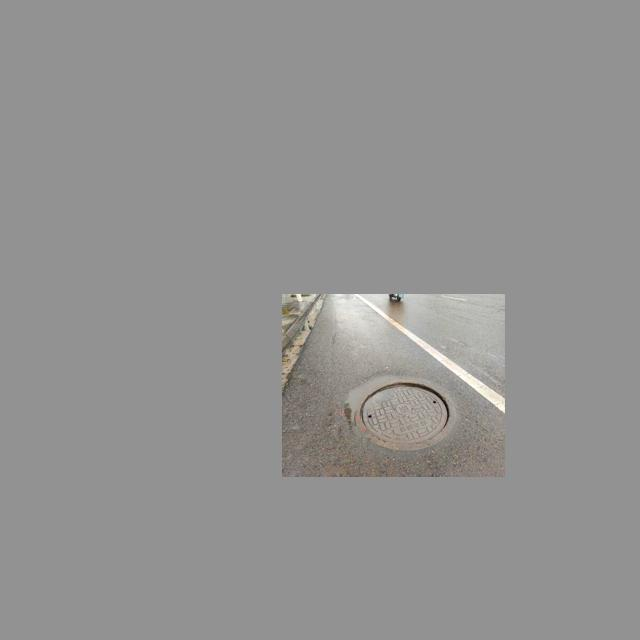good: (341, 372, 459, 453)
